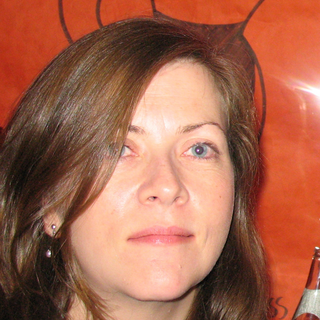eye: (178, 140, 223, 163)
